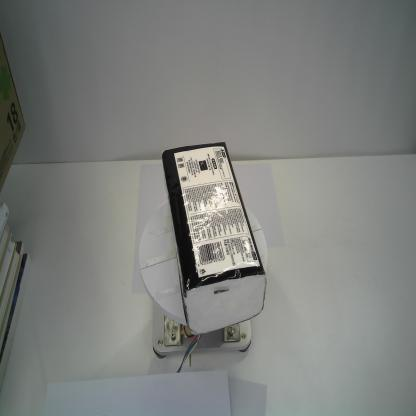Tissue: (162, 142, 267, 335)
